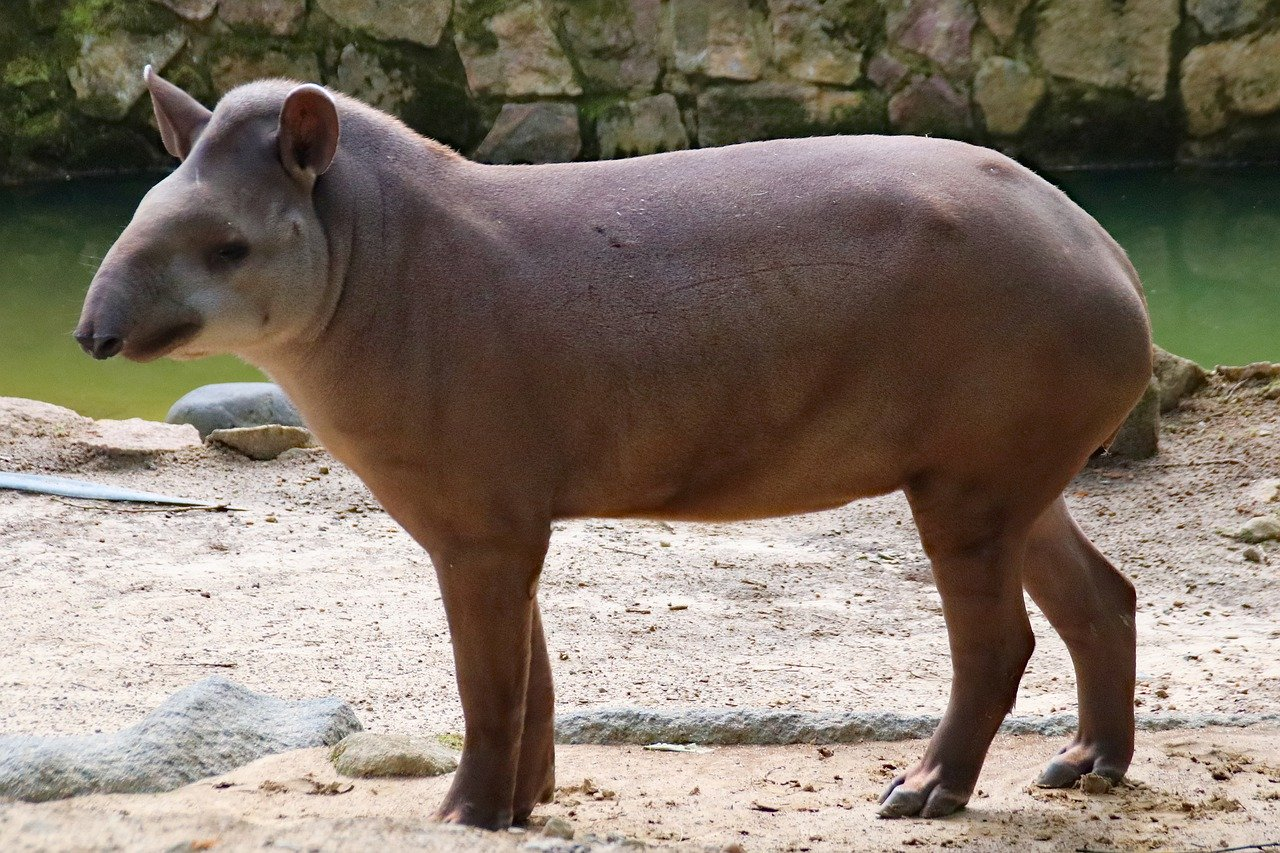Anta: (66, 60, 1194, 830)
